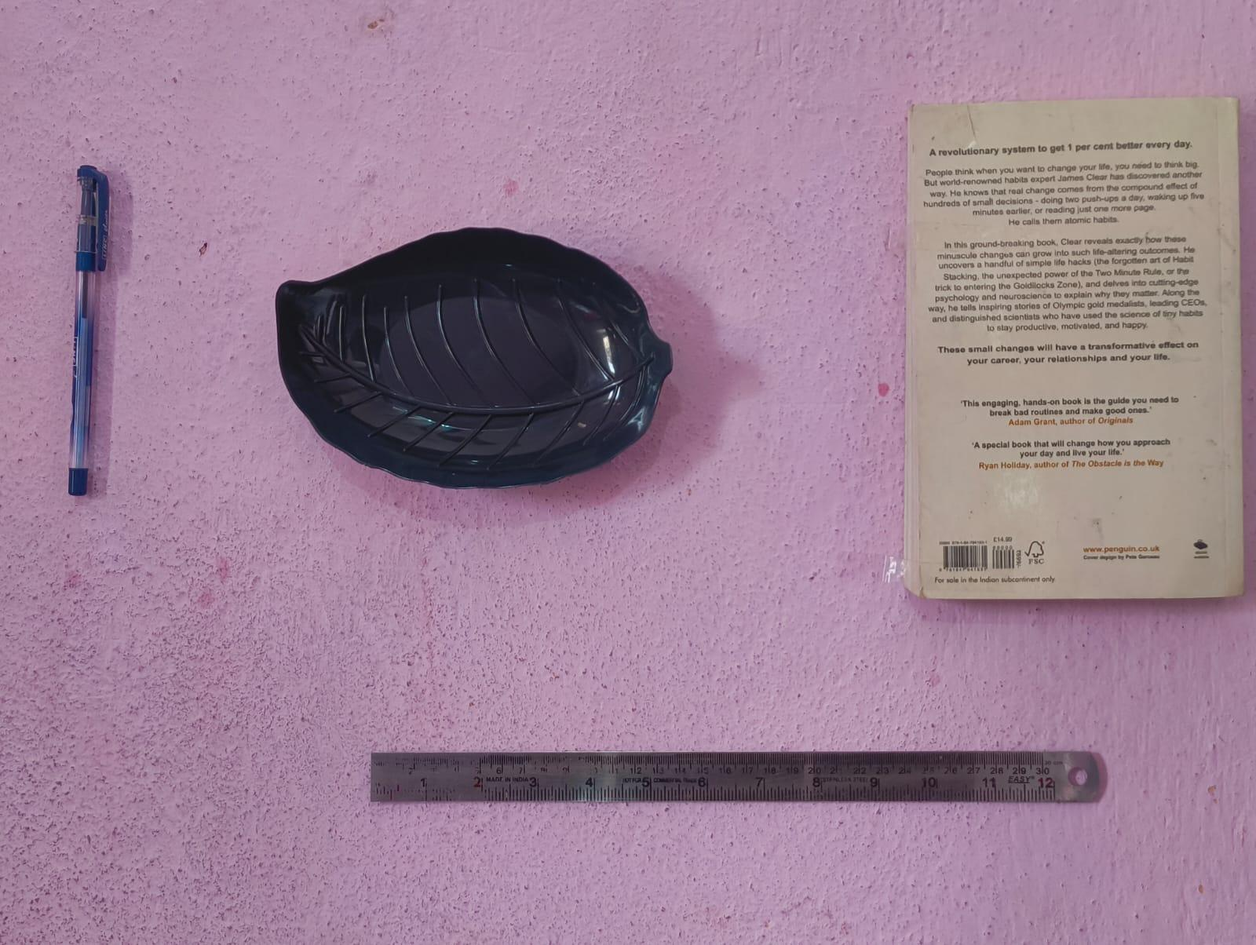Book: (889, 84, 1252, 615)
pen: (41, 156, 120, 497)
plate: (272, 217, 681, 485)
scale: (364, 735, 1111, 809)
